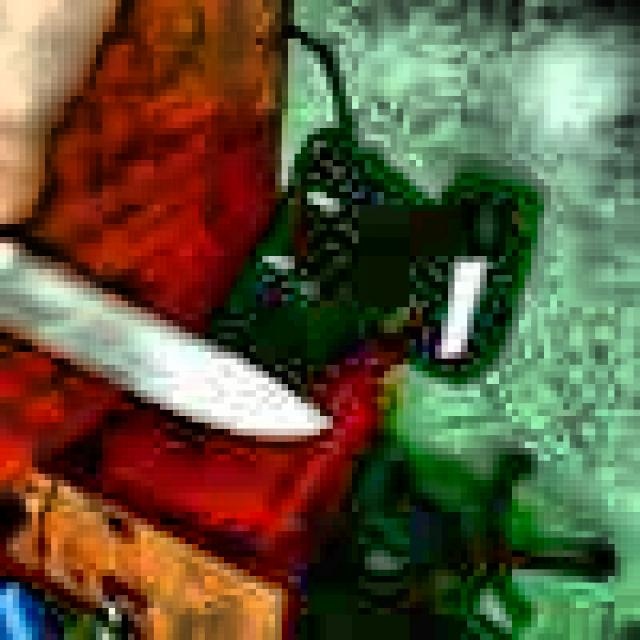knife: (4, 237, 337, 442)
